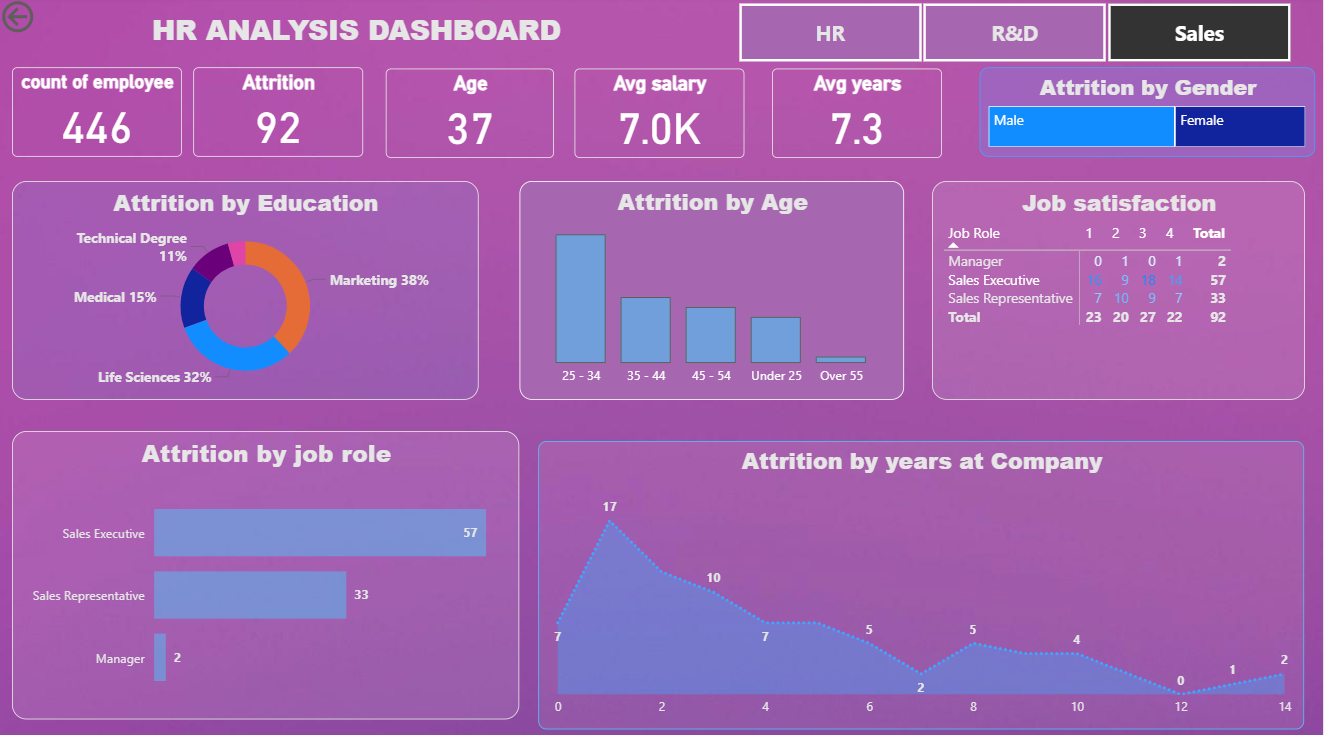

This screenshot's page, from the dashboard's own definition file:
{"tool":"powerbi","page":{"name":"Page 1","canvas":[1280,720],"ordinal":0},"visuals":[{"type":"card","title":"count of employee","fields":{"Values":["CountNonNull(HR Data xlsx - HR data.Employee Count)"]},"box":[15,68.8,163.8,86.2],"z":0},{"type":"card","title":"Attrition","fields":{"Values":["Sum(HR Data xlsx - HR data.attrition count)"]},"box":[190,68.8,163.8,86.2],"z":1000},{"type":"card","title":"Age","fields":{"Values":["Avg(HR Data xlsx - HR data.Age)"]},"box":[375,70,162.5,86.2],"z":2000},{"type":"actionButton","box":[0,0,100,40],"z":3000},{"type":"card","title":"Avg salary","fields":{"Values":["Avg(HR Data xlsx - HR data.Monthly Income)"]},"box":[557.5,70,163.8,86.2],"z":4000},{"type":"card","title":"Avg years","fields":{"Values":["Avg(HR Data xlsx - HR data.Years At Company)"]},"box":[747.5,70,163.8,86.2],"z":5000},{"type":"donutChart","title":"Attrition by Education ","fields":{"Category":["HR Data xlsx - HR data.Education Field"],"Y":["Sum(HR Data xlsx - HR data.attrition count)"]},"box":[15,178.8,450,211.2],"z":6000},{"type":"columnChart","title":"Attrition by Age","fields":{"Category":["HR Data xlsx - HR data.age group"],"Y":["Sum(HR Data xlsx - HR data.attrition count)"]},"box":[504.3,178.6,371.6,211.1],"z":7000},{"type":"pivotTable","title":"Job satisfaction","fields":{"Rows":["HR Data xlsx - HR data.Job Role"],"Columns":["HR Data xlsx - HR data.Job Satisfaction"],"Values":["Sum(HR Data xlsx - HR data.attrition count)"]},"box":[902.5,178.8,360,211.2],"z":8000},{"type":"barChart","title":"Attrition by job role","fields":{"Category":["HR Data xlsx - HR data.Job Role"],"Y":["Sum(HR Data xlsx - HR data.attrition count)"]},"box":[14.5,419.8,489.8,278.7],"z":9000},{"type":"lineChart","title":"Attrition by years at Company","fields":{"Category":["HR Data xlsx - HR data.Years At Company"],"Y":["Sum(HR Data xlsx - HR data.attrition count)"]},"box":[522.4,429.5,739.5,278.7],"z":10000},{"type":"treemap","title":"Attrition by Gender","fields":{"Group":["HR Data xlsx - HR data.Gender"],"Values":["Sum(HR Data xlsx - HR data.attrition count)"]},"box":[948.8,68.8,323.8,86.2],"z":11000},{"type":"textbox","box":[52.5,8.8,587.5,51.2],"z":12000},{"type":"slicer","fields":{"Values":["HR Data xlsx - HR data.Department"]},"box":[690,0,582.5,70],"z":13000}]}

Visuals, with their boxes in screenshot pixels (x1, y1, x2, y2), scaled from the page's 1280x720 canvas onto the 1324x735 screenshot:
"count of employee" card: box(16, 70, 185, 158)
"Attrition" card: box(197, 70, 366, 158)
"Age" card: box(388, 71, 556, 159)
actionButton: box(0, 0, 103, 41)
"Avg salary" card: box(577, 71, 746, 159)
"Avg years" card: box(773, 71, 943, 159)
"Attrition by Education " donutChart: box(16, 183, 481, 398)
"Attrition by Age" columnChart: box(522, 182, 906, 398)
"Job satisfaction" pivotTable: box(934, 183, 1306, 398)
"Attrition by job role" barChart: box(15, 429, 522, 713)
"Attrition by years at Company" lineChart: box(540, 438, 1305, 723)
"Attrition by Gender" treemap: box(981, 70, 1316, 158)
textbox: box(54, 9, 662, 61)
slicer - HR Data xlsx - HR data.Department: box(714, 0, 1316, 71)
